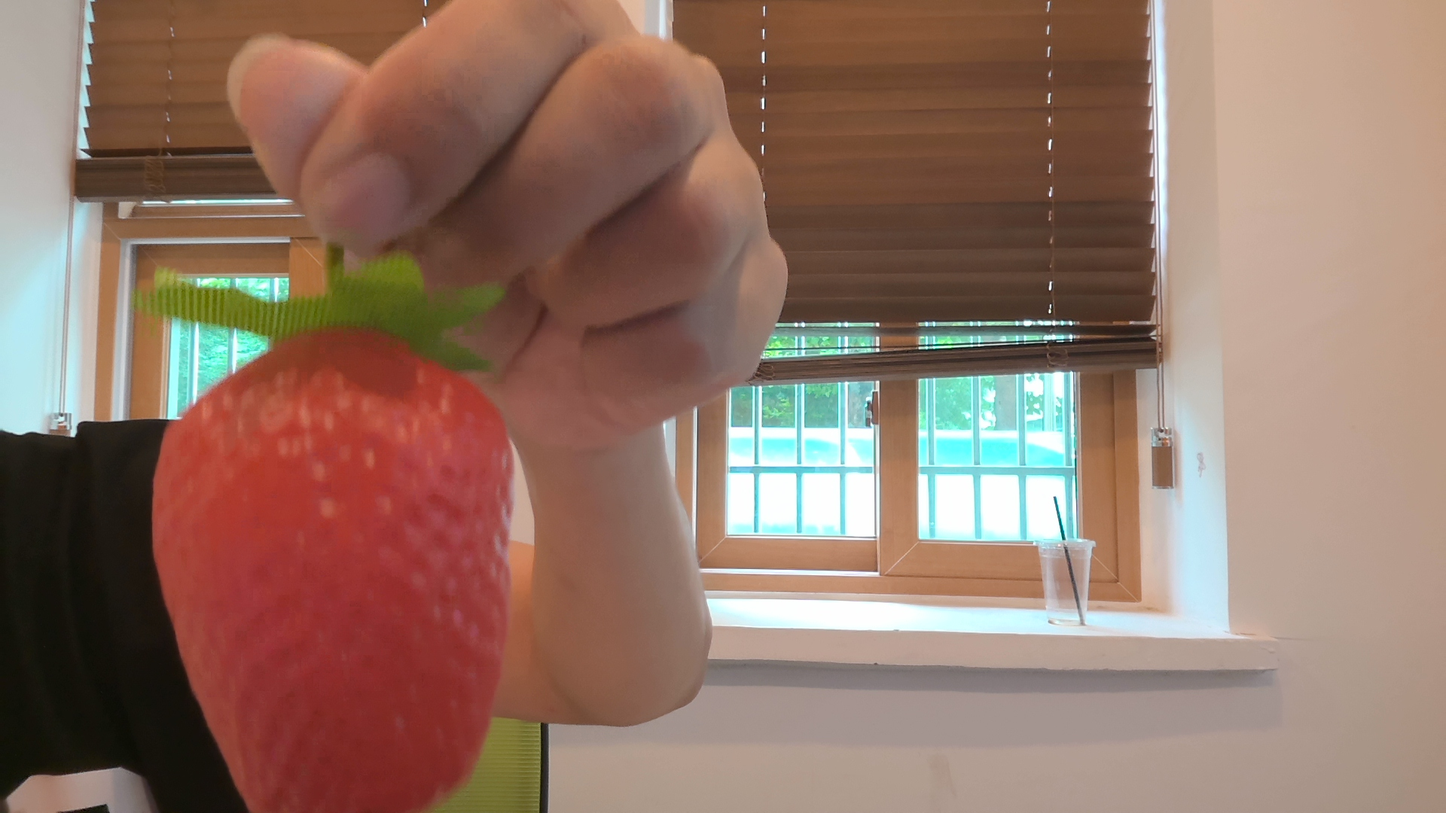strawberry: (134, 258, 535, 813)
